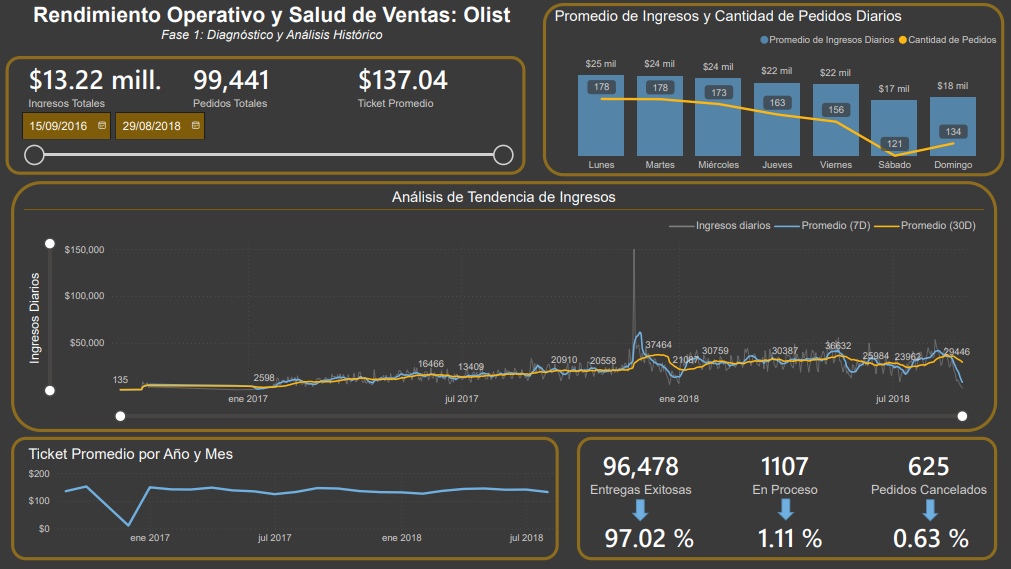

The page's visual inventory and layout, read from the dashboard file:
{"tool":"powerbi","page":{"name":"Página 1","canvas":[1280,720],"ordinal":0},"visuals":[{"type":"shape","box":[686.5,5.3,582.4,218.2],"z":0},{"type":"shape","box":[6.7,72.3,657.1,149.9],"z":1000},{"type":"shape","box":[14.2,230.1,1245.9,316.8],"z":2000},{"type":"lineChart","title":"Análisis de Tendencia de Ingresos","fields":{"Y":["Sum(Consulta1.ingresos_diarios)","select","select1"],"Category":["Consulta1.fecha"]},"box":[31.3,240.1,1211.8,296.9],"z":3000},{"type":"cardVisual","fields":{"Data":["Sum(Consulta1.ingresos_diarios)","Consulta2.Pedidos Totales Medida","Consulta1.Ticket Promedio"]},"box":[6.8,63,652.1,91.8],"z":4000},{"type":"slicer","fields":{"Values":["Consulta1.fecha"]},"box":[14.7,128.5,642.4,101.7],"z":5000},{"type":"lineClusteredColumnComboChart","title":"Promedio de Ingresos y Cantidad de Pedidos Diarios","fields":{"Category":["Consulta1.Dia_Semana_Ordenado"],"Y":["Avg(Consulta1.ingresos_diarios)"],"Y2":["Avg(Consulta1.cantidad_pedidos)"]},"box":[695.9,10.6,572.9,215.3],"z":6000},{"type":"shape","box":[14.3,552.9,691.4,155.7],"z":7000},{"type":"lineChart","fields":{"Y":["Consulta1.Ticket Promedio"],"Category":["Consulta1.fecha.Variación.Jerarquía de fechas.Año","Consulta1.fecha.Variación.Jerarquía de fechas.Mes"]},"box":[31.4,564.3,687.1,132.9],"z":8000},{"type":"textbox","box":[0,0,687.1,62.9],"z":9000},{"type":"shape","box":[728.6,552.9,531.4,155.7],"z":10000},{"type":"cardVisual","fields":{"Data":["Sum(Consulta2.Entregados)","Sum(Consulta2.En Proceso)","Sum(Consulta2.Cancelados)"]},"box":[705.7,537.1,574.3,131.4],"z":11000},{"type":"cardVisual","fields":{"Data":["Sum(Consulta2.Tasa de Éxito)","Sum(Consulta2.Tasa En Progreso)","Sum(Consulta2.Tasa de Cancelaciones)"]},"box":[718.6,625.7,561.4,85.7],"z":12000},{"type":"shape","box":[981.8,630.9,21.8,28.2],"z":13000},{"type":"shape","box":[1164.5,631.8,21.8,28.2],"z":14000},{"type":"shape","box":[798.2,631.8,21.8,28.2],"z":15000}]}

Visuals, with their boxes in screenshot pixels (x1, y1, x2, y2), scaled from the page's 1280x720 canvas onto the 1011x569 screenshot:
shape: crop(542, 4, 1002, 177)
shape: crop(5, 57, 524, 176)
shape: crop(11, 182, 995, 432)
"Análisis de Tendencia de Ingresos" lineChart: crop(25, 190, 982, 424)
cardVisual - Sum(Consulta1.ingresos_diarios) x Consulta2.Pedidos Totales Medida: crop(5, 50, 520, 122)
slicer - Consulta1.fecha: crop(12, 102, 519, 182)
"Promedio de Ingresos y Cantidad de Pedidos Diarios" lineClusteredColumnComboChart: crop(550, 8, 1002, 179)
shape: crop(11, 437, 557, 560)
lineChart - Consulta1.Ticket Promedio x Consulta1.fecha.Variación.Jerarquía de fechas.Año: crop(25, 446, 568, 551)
textbox: crop(0, 0, 543, 50)
shape: crop(575, 437, 995, 560)
cardVisual - Sum(Consulta2.Entregados) x Sum(Consulta2.En Proceso): crop(557, 424, 1010, 528)
cardVisual - Sum(Consulta2.Tasa de Éxito) x Sum(Consulta2.Tasa En Progreso): crop(568, 494, 1010, 562)
shape: crop(775, 499, 793, 521)
shape: crop(920, 499, 937, 522)
shape: crop(630, 499, 648, 522)
